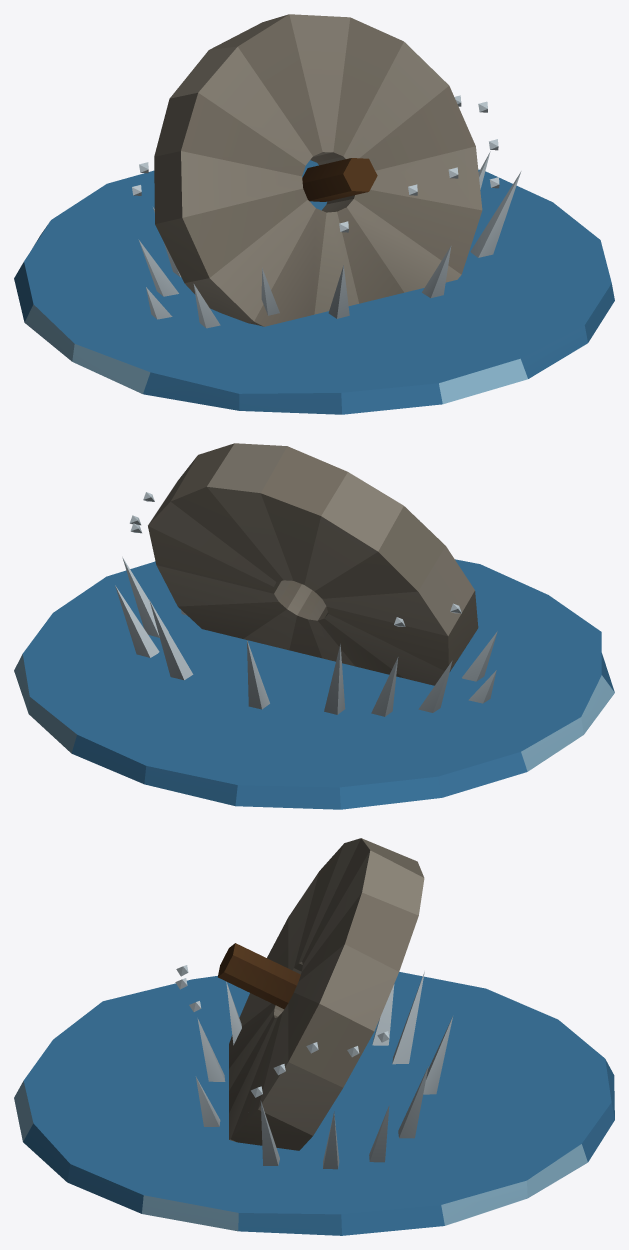
The model's file is millstone.glb.
3 renders of one model, top to bottom at view 1: azimuth 30°, elevation 25°; view 2: azimuth 150°, elevation 25°; view 3: azimuth 270°, elevation 25°, orthographic.
Visible parts, largest first — view 1: stone_m, base, splash_m; view 2: base, stone_m, splash_m; view 3: base, stone_m, splash_m.
Boxes of the visible parts, x1,y1,x2,y2 form: stone_m: [154, 14, 482, 326]; base: [14, 160, 614, 414]; splash_m: [132, 95, 521, 328]; base: [14, 559, 614, 809]; stone_m: [148, 443, 478, 685]; splash_m: [115, 492, 497, 716]; base: [14, 972, 614, 1235]; stone_m: [218, 838, 424, 1150]; splash_m: [175, 965, 452, 1169].
Bounding box in the file's own units: 1.54 × 0.8632 × 1.54.
